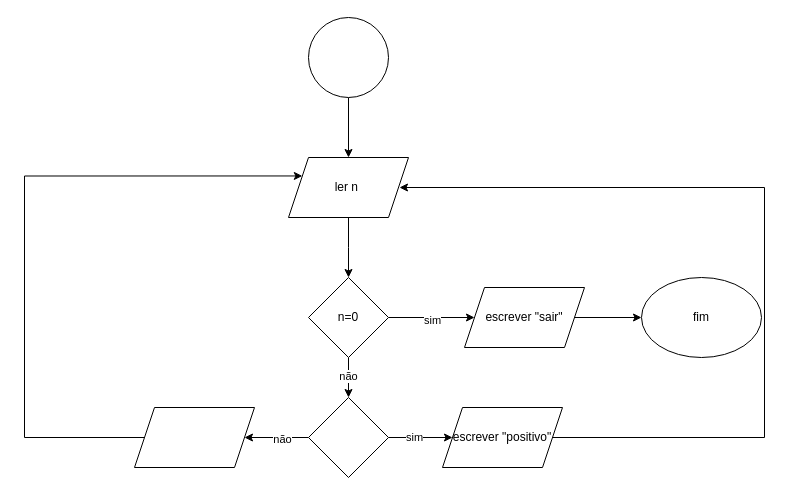
Image size: 790x495. Some labels were removed from this diagram. The centre of each missing label's shape, as x and y in pixels:
escrever "negativo": point 194,437
início: point 348,57
n>0: point 348,437
